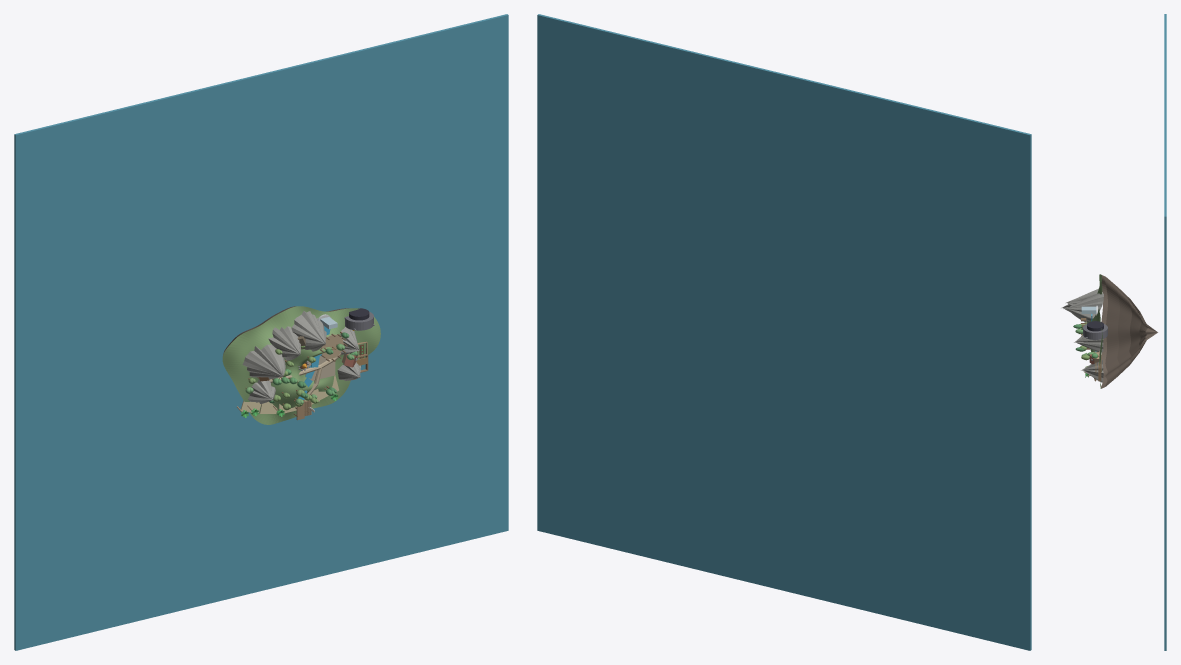
Rendered from A_ILHA_V2.glb.
3 views of the same model, side by side, from view 1: azimuth 30°, elevation 25°; view 2: azimuth 150°, elevation 25°; view 3: azimuth 270°, elevation 25° (orthographic). The views are drawn at different scales.
Visible parts, largest first — view 1: Oceano, Terreno_Reconstruido, Montanha_Natural_0, Montanha_Natural_2, Montanha_Natural_1; view 2: Oceano; view 3: Base_Rochosa, Oceano, Montanha_Natural_2, Caverna_Sombria, Montanha_Natural_3, Terreno_Reconstruido, Montanha_Natural_5.
Boxes of the visible parts, left/top/right/bottom form: Oceano: left=14, top=14, right=508, bottom=650; Terreno_Reconstruido: left=222, top=306, right=380, bottom=424; Montanha_Natural_0: left=242, top=344, right=285, bottom=379; Montanha_Natural_2: left=291, top=311, right=326, bottom=351; Montanha_Natural_1: left=268, top=326, right=300, bottom=360; Oceano: left=537, top=14, right=1031, bottom=650; Base_Rochosa: left=1101, top=275, right=1157, bottom=388; Oceano: left=1164, top=14, right=1166, bottom=650; Montanha_Natural_2: left=1064, top=293, right=1103, bottom=322; Caverna_Sombria: left=1083, top=321, right=1107, bottom=340; Montanha_Natural_3: left=1074, top=335, right=1103, bottom=351; Terreno_Reconstruido: left=1087, top=274, right=1102, bottom=388; Montanha_Natural_5: left=1081, top=359, right=1103, bottom=382.
Bounding box in the file's own units: 100 × 100 × 22.18.
